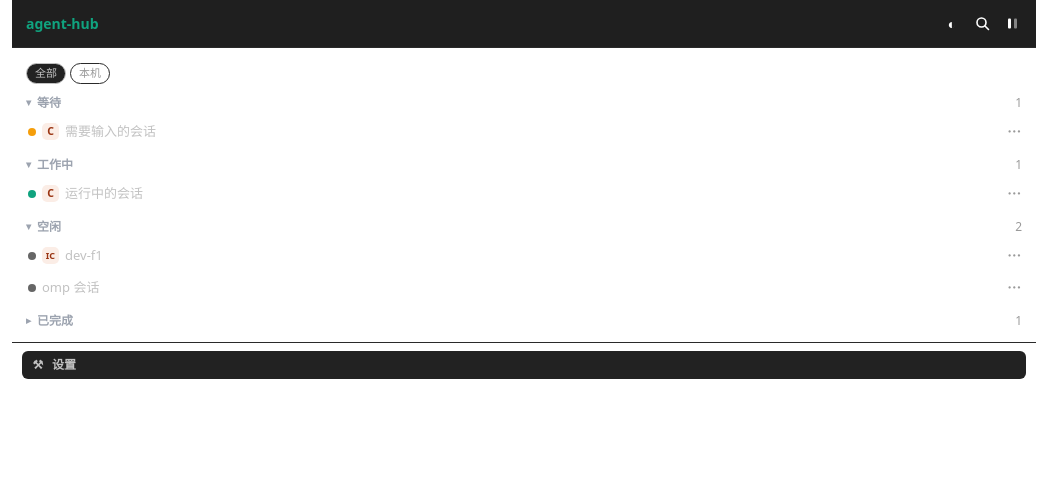
Scenario: AgentList Sidebar-v2 › 行 ⋯ 菜单：不允许打开终端（无此入口）+ 序列化会话操作（Logs/工程便签/中断/Stop/Respawn/Remove）
Step 1. Click the button named "运行中的会话 更多操作" → (1014, 194), box [1000,178,1028,210]
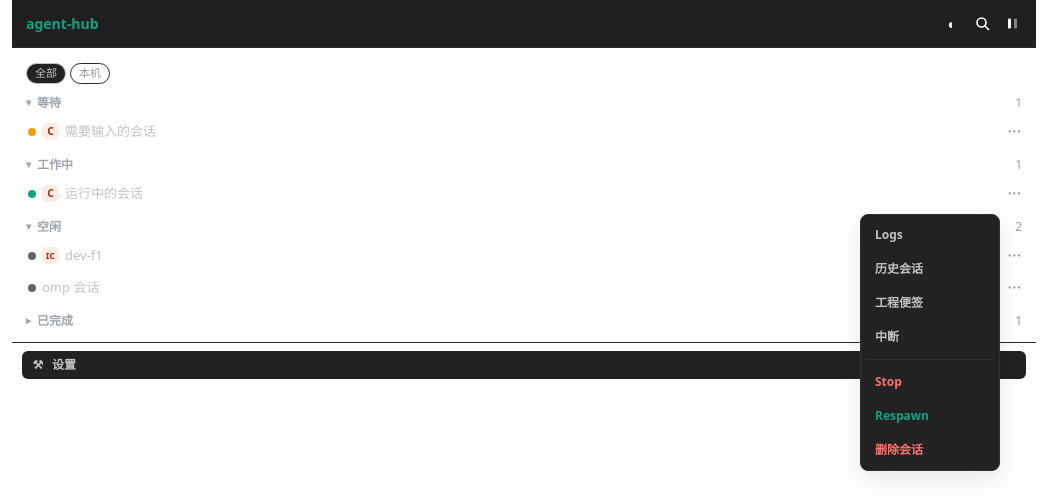
Expected: the menu item "Logs" is shown, [865,218,995,250]
Expected: the menu item "工程便签" is shown, [865,286,995,318]
Expected: the menu item "中断" is shown, [865,320,995,352]
